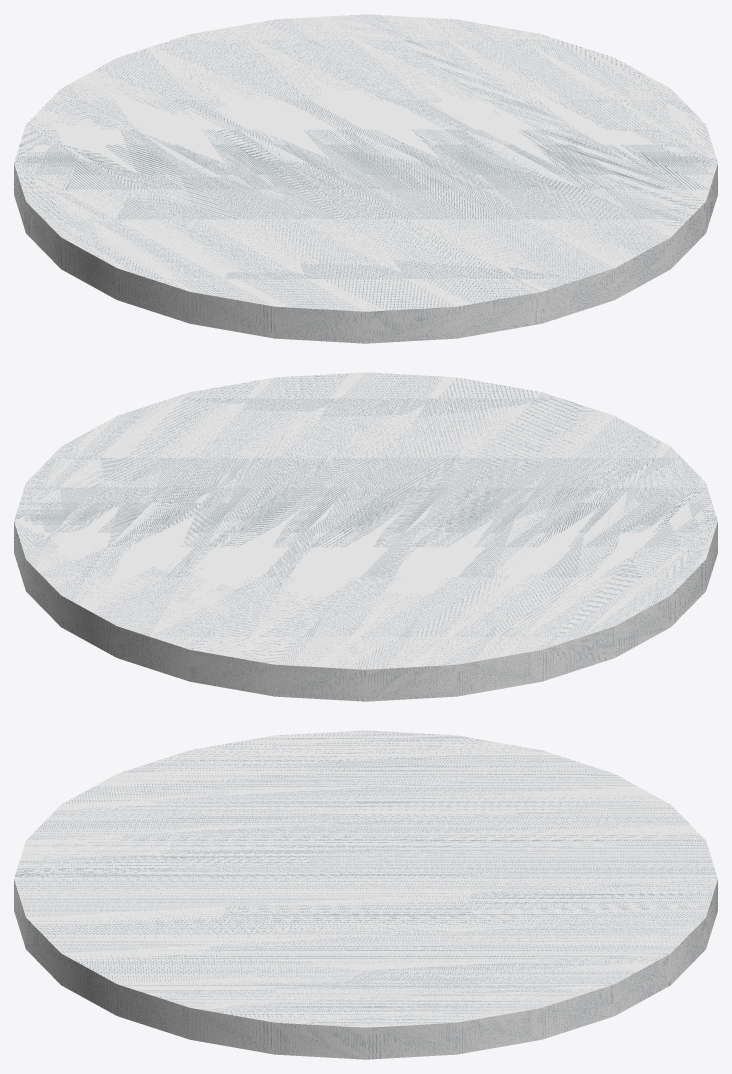
File: Disc.fbx
The picture shows the model from 3 angles, top to bottom: view 1: azimuth 30°, elevation 25°; view 2: azimuth 150°, elevation 25°; view 3: azimuth 270°, elevation 25°; orthographic projection.
Parts seen in each view (by area): view 1: Model; view 2: Model; view 3: Model.
Part boxes in pixels (bbox=[...]): Model: bbox=[14, 14, 717, 343]; Model: bbox=[14, 372, 717, 701]; Model: bbox=[14, 730, 717, 1059].
Size of the model in its own units: 20 by 1 by 20.
